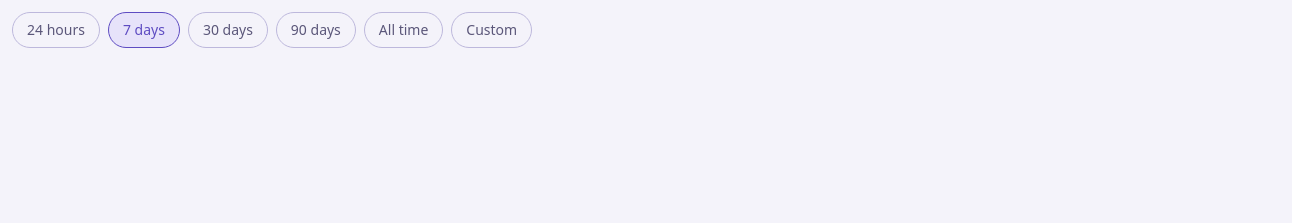
Test case: DateRangeFilter › shows an inline error and does not apply a reversed range
This screenshot has width=1292, height=223.
Click the button "Custom".
click(492, 30)  # box top-left (451, 12), bottom-right (532, 48)
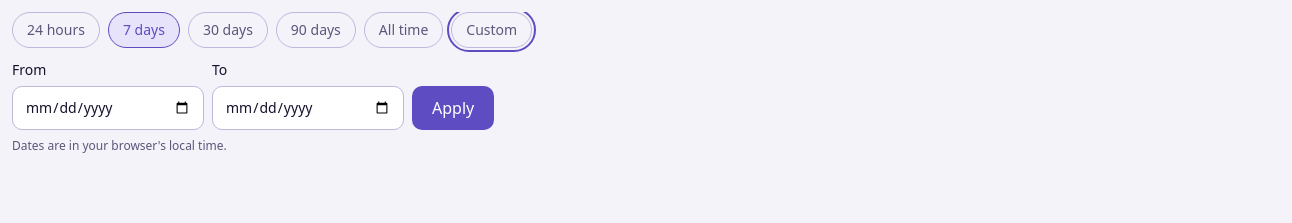
Type "2026-10-05" into the date field labelled "From".
click(108, 108); type("2026-10-05")  # box top-left (12, 86), bottom-right (204, 130)
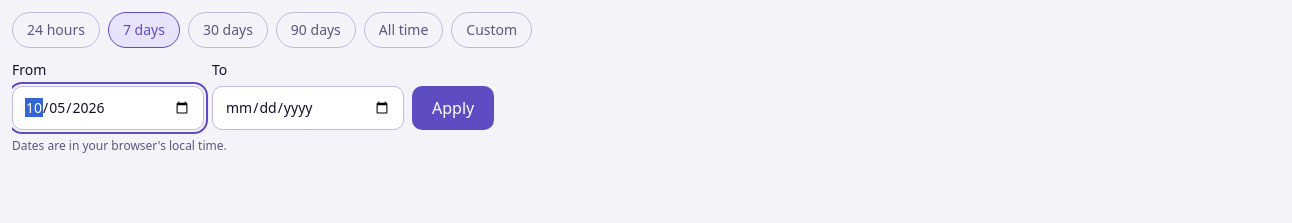
Type "2026-10-01" into the date field labelled "To".
click(308, 108); type("2026-10-01")  # box top-left (212, 86), bottom-right (404, 130)
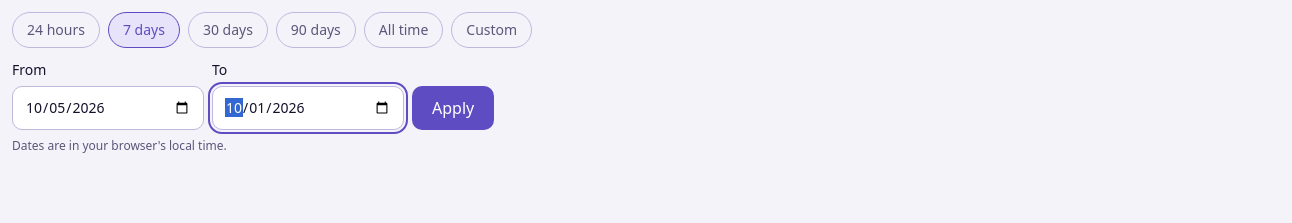
Click the button "Apply".
click(453, 108)  # box top-left (412, 86), bottom-right (494, 130)
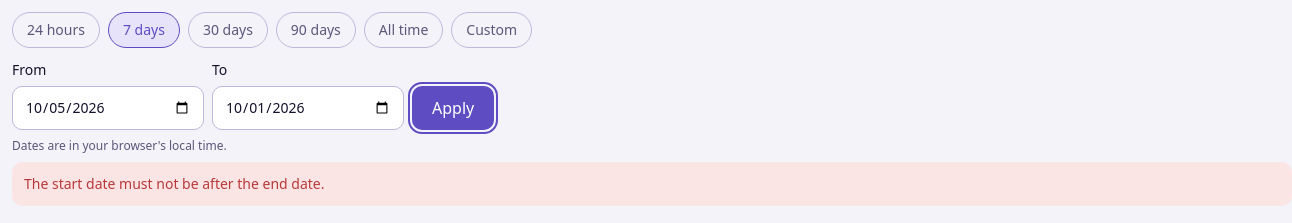
Check: the message reads "The start date must not be after the end date.", box top-left (24, 174), bottom-right (324, 193)
